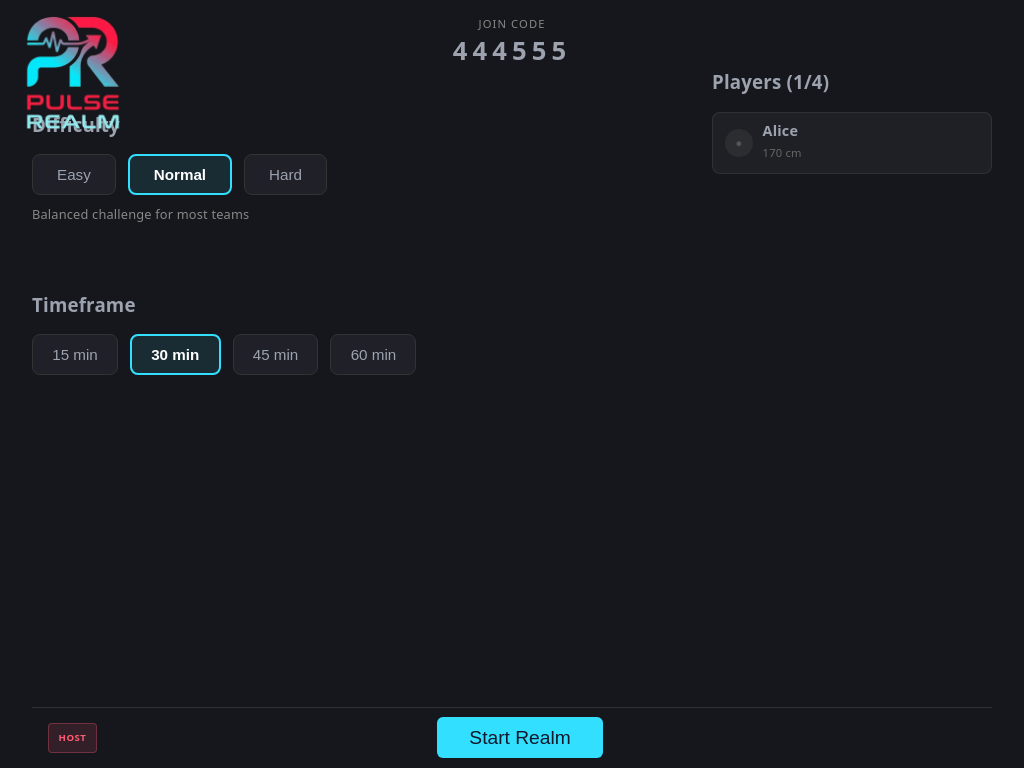
Test case: DungeonLobby › difficulty selection › can select Easy difficulty
Click the button "Easy" at point(74, 174), box [32,154,116,195]
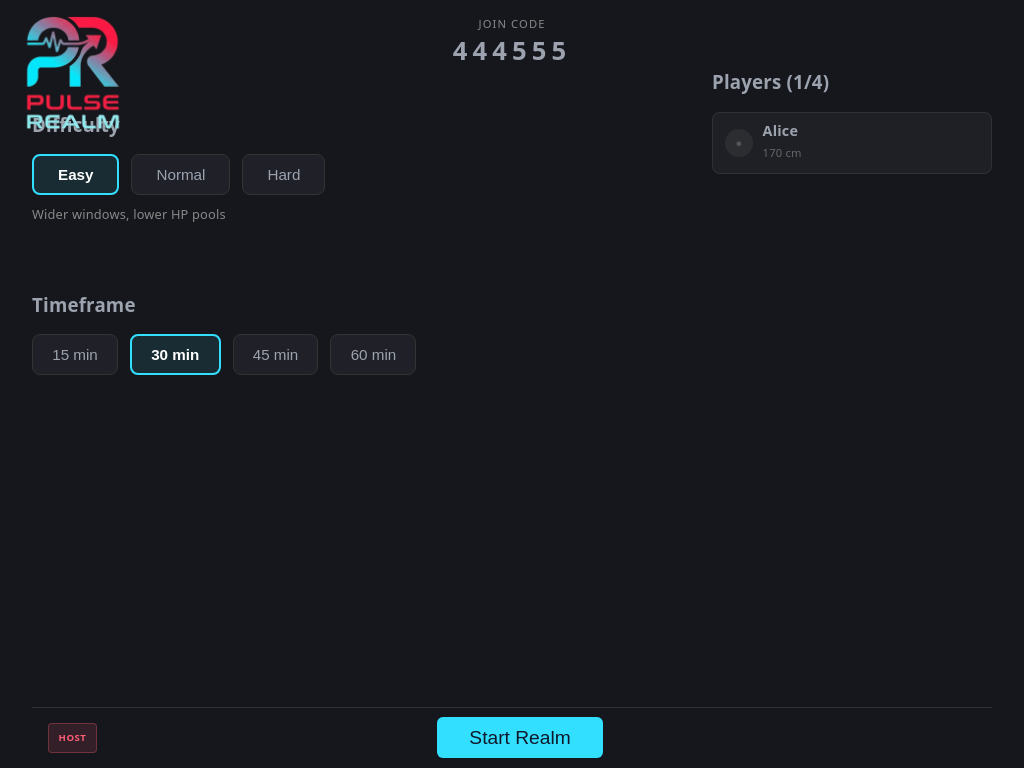
Expected: the text "Wider windows, lower HP pools" is shown, [32,205,226,223]
